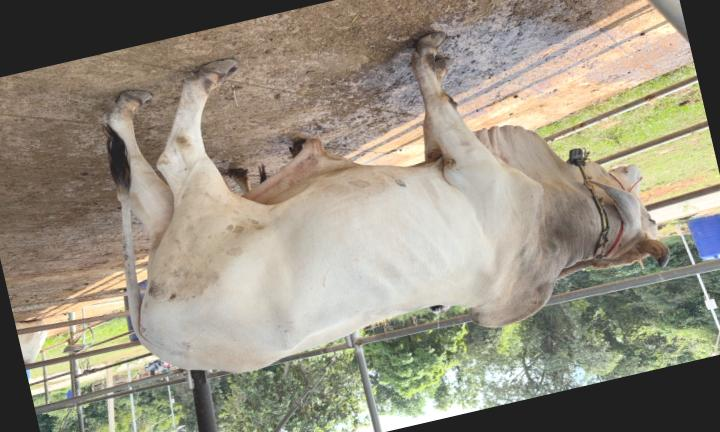Brahman: (105, 32, 669, 372)
